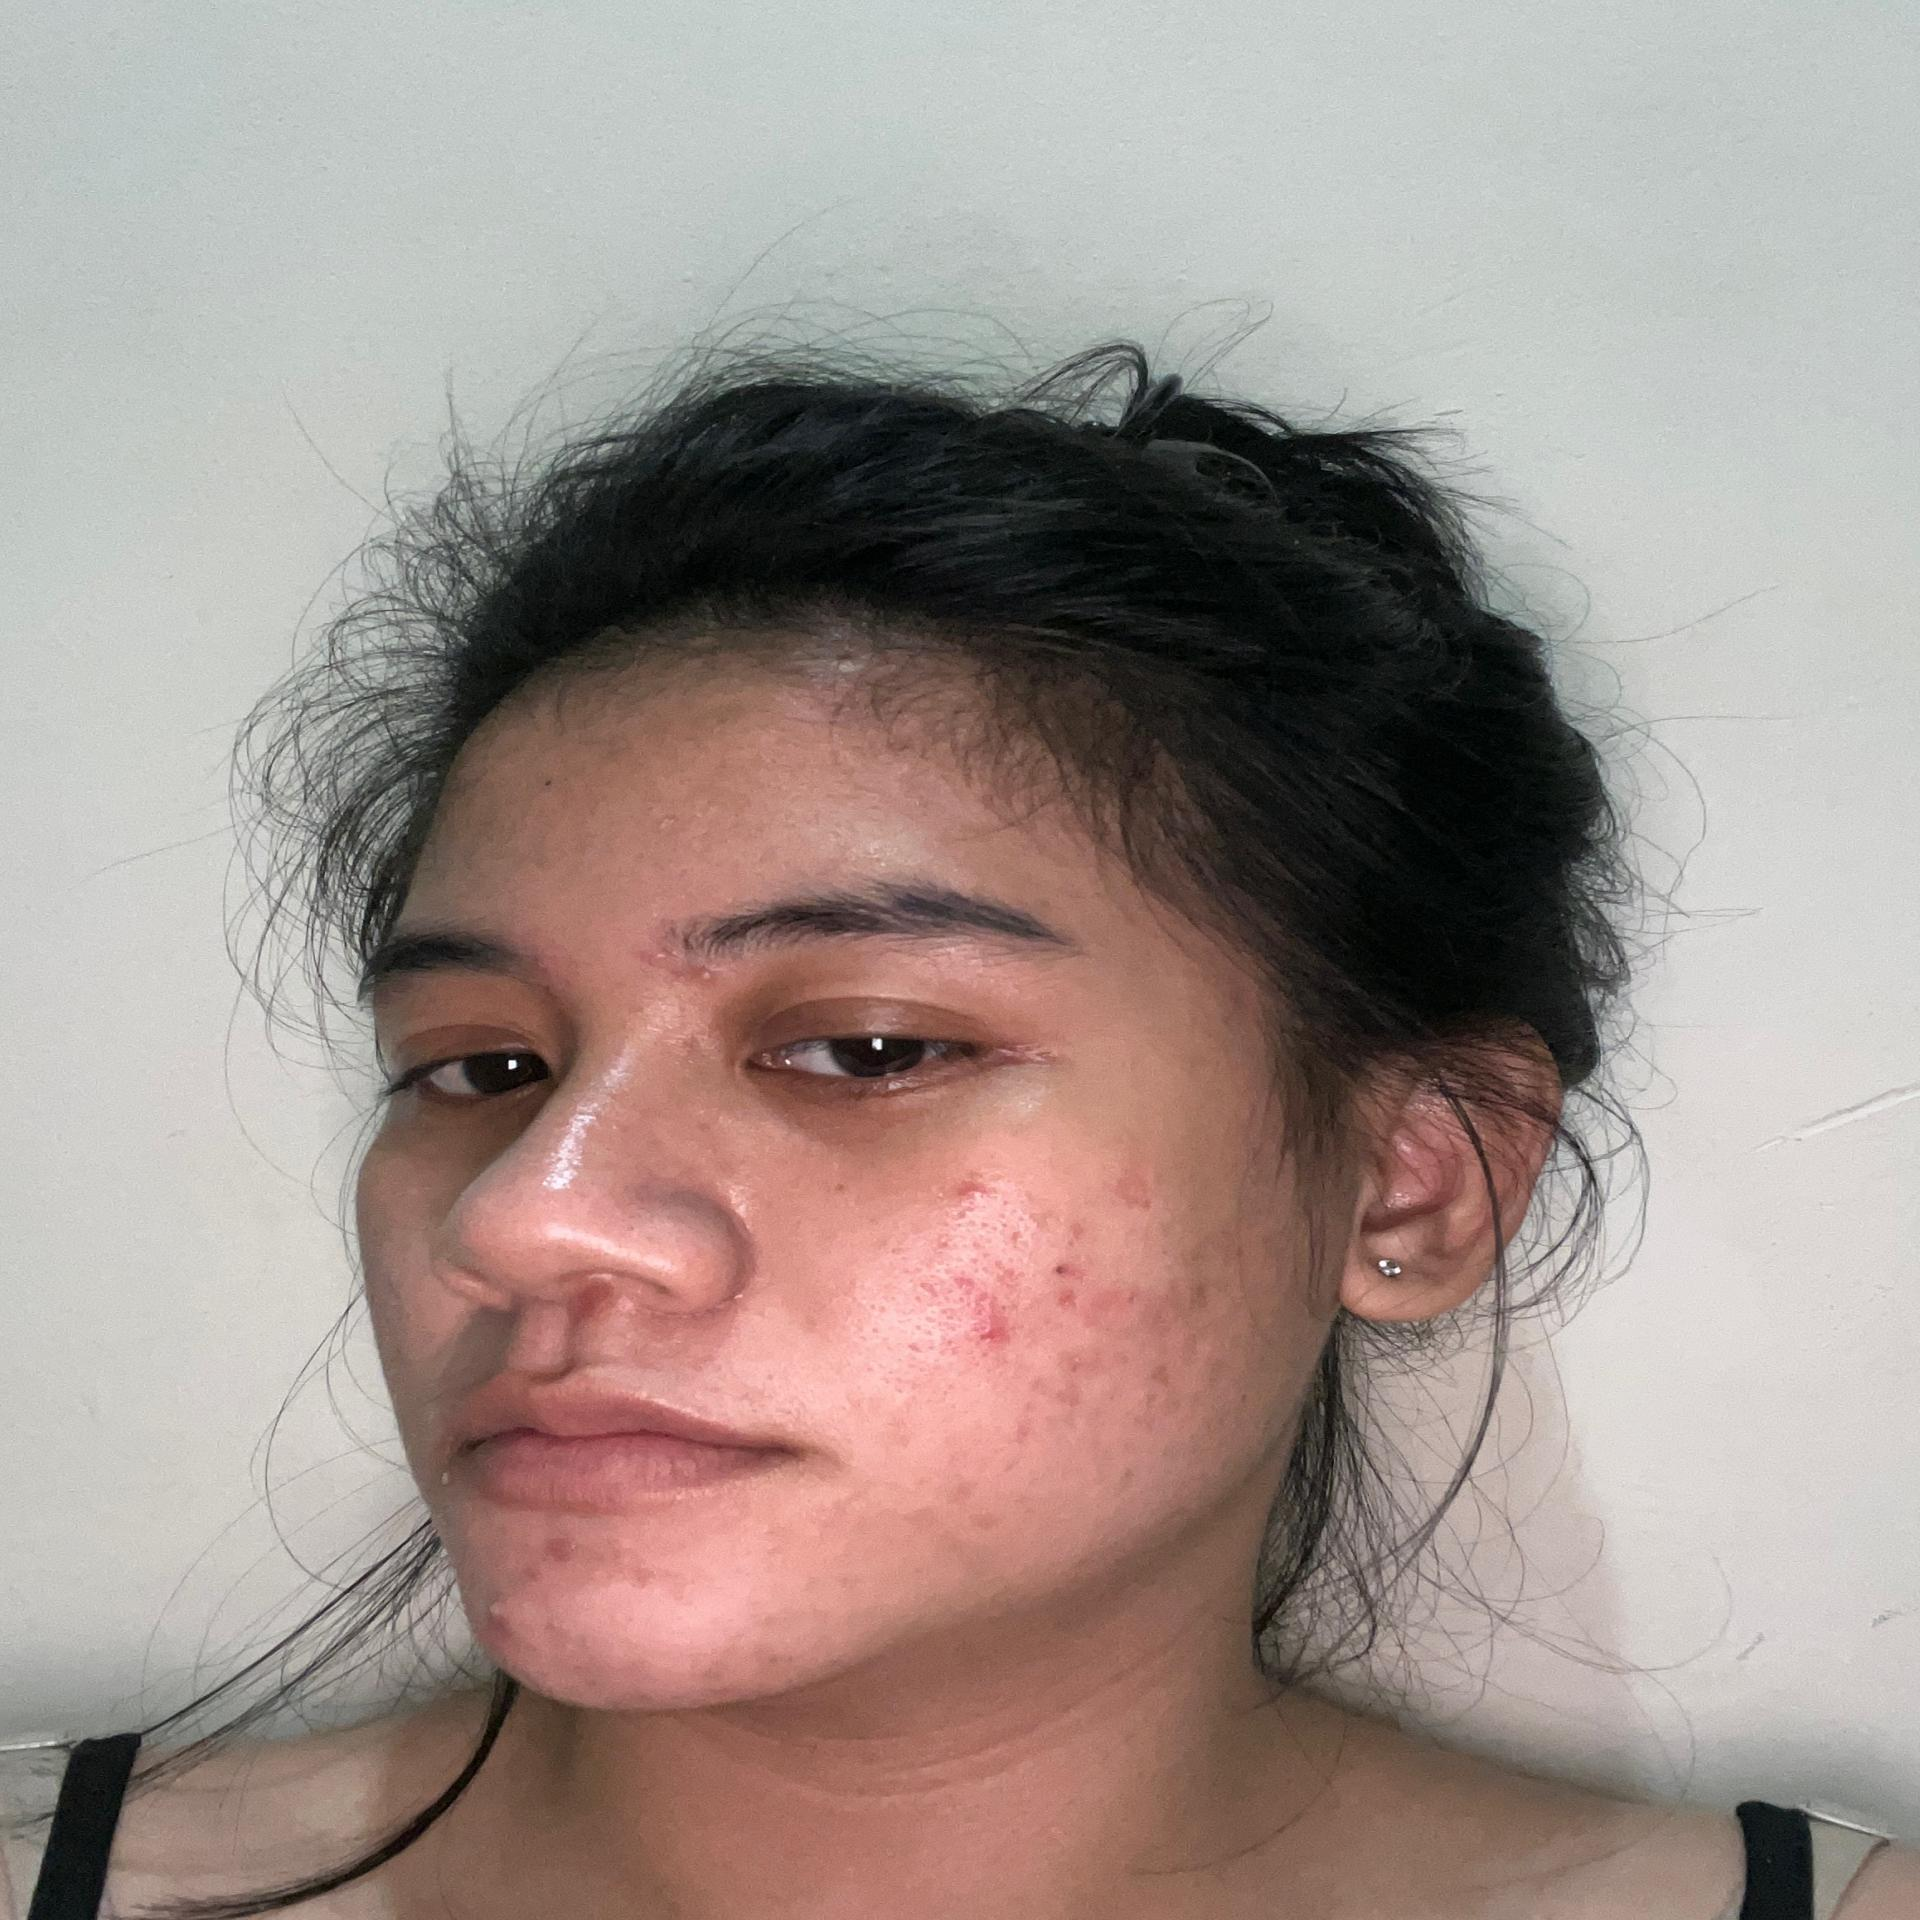Acne: (1106, 1160, 1164, 1215), (964, 1296, 1016, 1349), (1022, 1373, 1092, 1412), (948, 1173, 1000, 1210), (566, 1282, 615, 1319), (542, 1531, 585, 1567), (988, 1257, 1034, 1291), (1132, 1380, 1160, 1433), (1173, 1271, 1208, 1313), (635, 809, 686, 837), (879, 1414, 916, 1452), (949, 1269, 988, 1301), (619, 1565, 659, 1595), (754, 1519, 789, 1553), (944, 1473, 978, 1507), (480, 1596, 510, 1633), (965, 1503, 1009, 1528), (601, 1535, 636, 1565), (1057, 1217, 1090, 1245), (1060, 1345, 1088, 1378), (1145, 1361, 1180, 1387), (689, 967, 723, 993), (644, 942, 677, 969), (1009, 1417, 1032, 1454), (515, 1560, 547, 1586), (1050, 1284, 1080, 1310), (913, 1276, 951, 1294), (1000, 1222, 1032, 1243), (1043, 1261, 1078, 1278), (540, 1614, 566, 1637), (1118, 1282, 1146, 1303), (434, 1463, 455, 1489), (934, 1227, 962, 1247)
Blackhead: (610, 1196, 663, 1243)
Dark Circles: (723, 1060, 1060, 1155)
Englarged Pores: (856, 1187, 1043, 1401)
